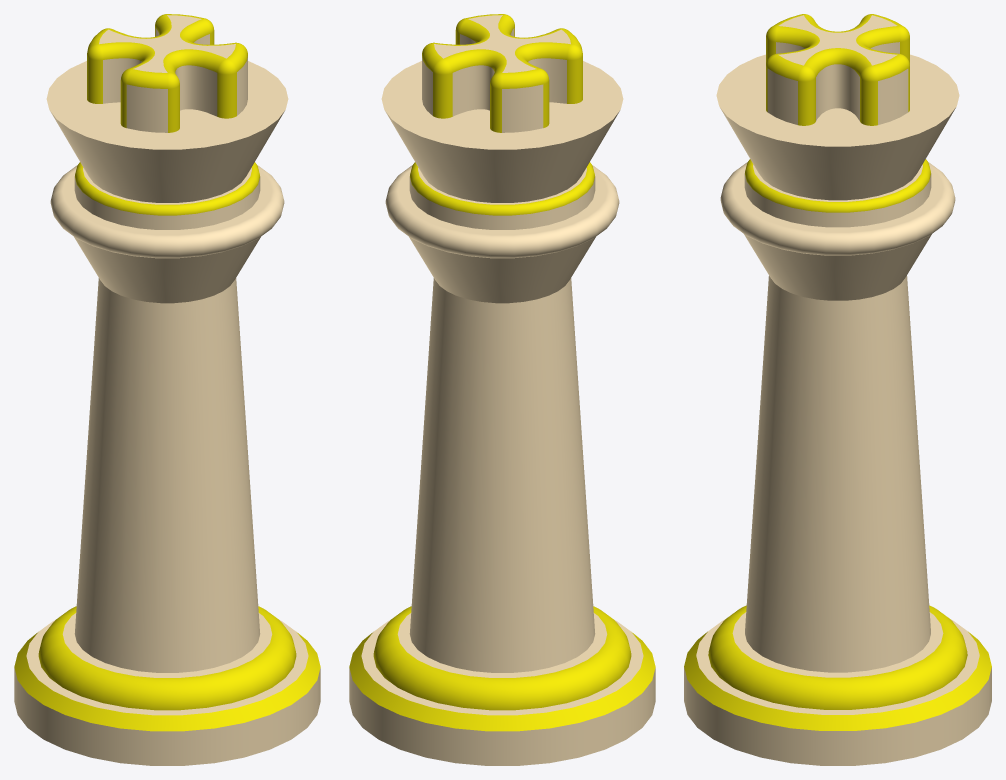
File: Premium_W_King.gltf
3 renders of one model, left to right at view 1: azimuth 30°, elevation 25°; view 2: azimuth 150°, elevation 25°; view 3: azimuth 270°, elevation 25°, orthographic.
Parts seen in each view (by area): view 1: King; view 2: King; view 3: King.
Boxes of the visible parts, left/top/right/bottom form: King: left=14, top=14, right=320, bottom=765; King: left=349, top=14, right=655, bottom=765; King: left=684, top=14, right=991, bottom=765.
Size of the model in its own units: 0.0192 by 0.0457 by 0.0193.
